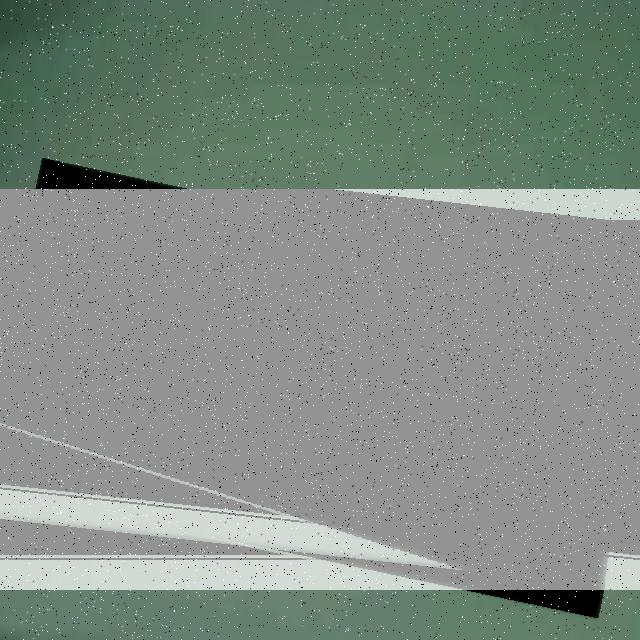dua ribu rupiah: (0, 189, 640, 590)
